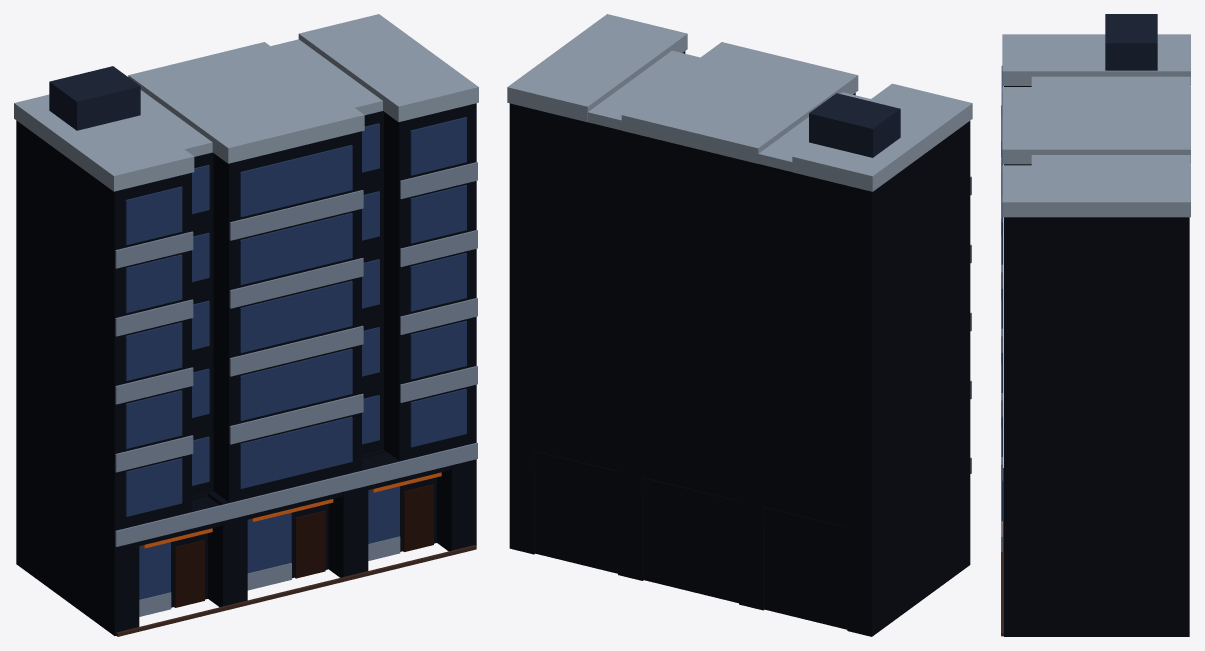
File: tradetower3.obj
The picture shows the model from 3 angles, left to right: view 1: azimuth 30°, elevation 25°; view 2: azimuth 150°, elevation 25°; view 3: azimuth 270°, elevation 25°; orthographic projection. The views are drawn at different scales.
Visible parts, largest first — view 1: masses, mass-glazing, caps, base-piers, spandrels, slot-glazing, slot-backs, transom, shop-doors, shopfronts, roof-plant, base-heads (+4 smaller); view 2: masses, caps, slot-backs, base-back, base-piers, base-heads, roof-plant; view 3: masses, caps, base-piers, roof-plant, mass-glazing, spandrels, pavement.
Part boxes in pixels (left/top/right/bottom): masses: left=16, top=103, right=476, bottom=530; mass-glazing: left=125, top=117, right=466, bottom=516; caps: left=14, top=14, right=478, bottom=191; base-piers: left=16, top=442, right=476, bottom=635; spandrels: left=115, top=162, right=477, bottom=472; slot-glazing: left=192, top=123, right=379, bottom=485; slot-backs: left=192, top=111, right=383, bottom=496; transom: left=115, top=442, right=477, bottom=546; shop-doors: left=174, top=484, right=433, bottom=607; shopfronts: left=139, top=486, right=399, bottom=599; roof-plant: left=49, top=66, right=140, bottom=130; base-heads: left=139, top=449, right=451, bottom=545; masses: left=509, top=51, right=970, bottom=530; caps: left=507, top=14, right=972, bottom=191; slot-backs: left=587, top=122, right=794, bottom=511; base-back: left=535, top=449, right=847, bottom=629; base-piers: left=509, top=443, right=970, bottom=636; base-heads: left=534, top=451, right=847, bottom=546; roof-plant: left=809, top=93, right=900, bottom=157; masses: left=1004, top=86, right=1189, bottom=536; caps: left=1002, top=34, right=1190, bottom=217; base-piers: left=1004, top=537, right=1189, bottom=636; roof-plant: left=1105, top=14, right=1157, bottom=70; mass-glazing: left=1001, top=66, right=1003, bottom=521; spandrels: left=1001, top=105, right=1002, bottom=481; pavement: left=1001, top=468, right=1003, bottom=636.
Size of the model in its own units: 6.86 by 8.82 by 3.27.
